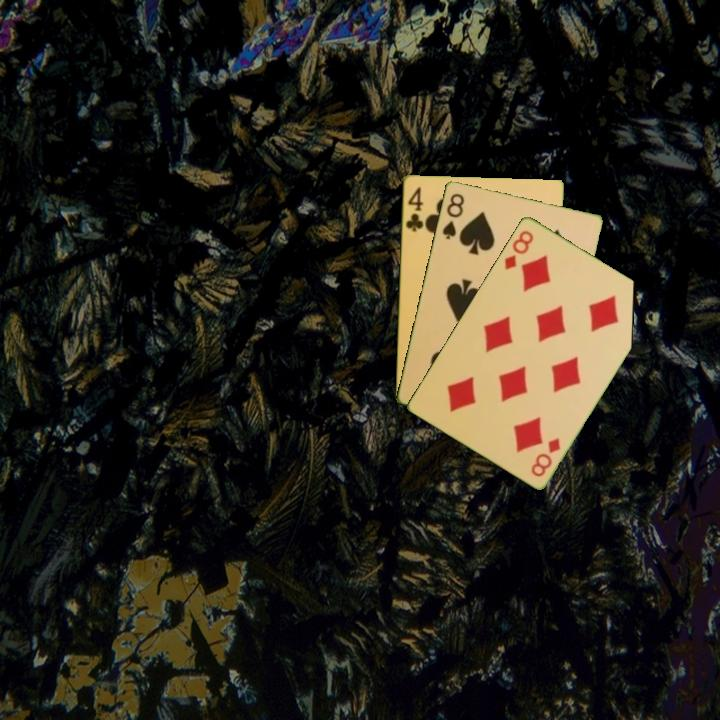4c: (402, 183, 426, 234)
8d: (501, 226, 536, 273), (527, 434, 563, 479)
8s: (438, 189, 467, 242)
